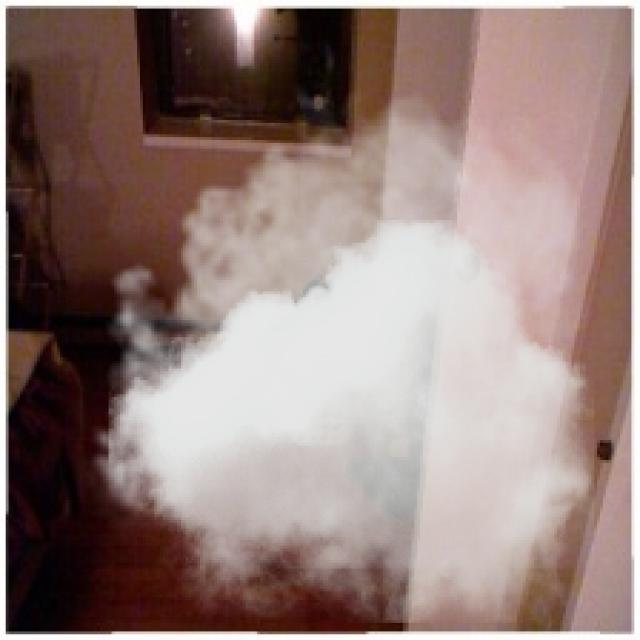smoke: (77, 77, 594, 623)
